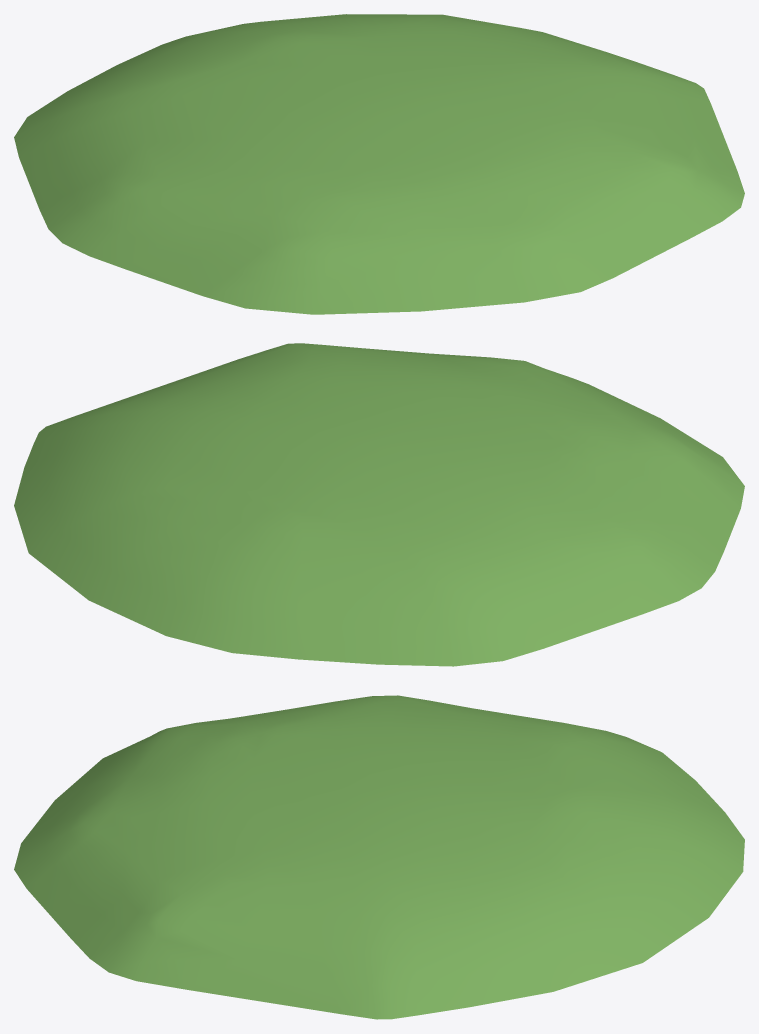
File: grass.fbx
3 renders of one model, top to bottom at view 1: azimuth 30°, elevation 25°; view 2: azimuth 150°, elevation 25°; view 3: azimuth 270°, elevation 25°, orthographic. The views are drawn at different scales.
Parts seen in each view (by area): view 1: grass; view 2: grass; view 3: grass.
Boxes of the visible parts, bbox=[...] form: grass: bbox=[14, 14, 744, 314]; grass: bbox=[14, 343, 744, 666]; grass: bbox=[14, 695, 744, 1019].
Size of the model in its own units: 724 by 70.75 by 702.
